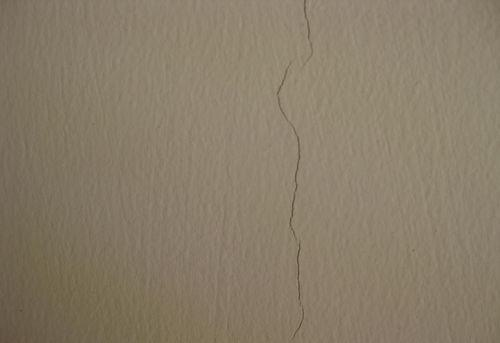Crack: (276, 59, 305, 343), (302, 1, 314, 68)
